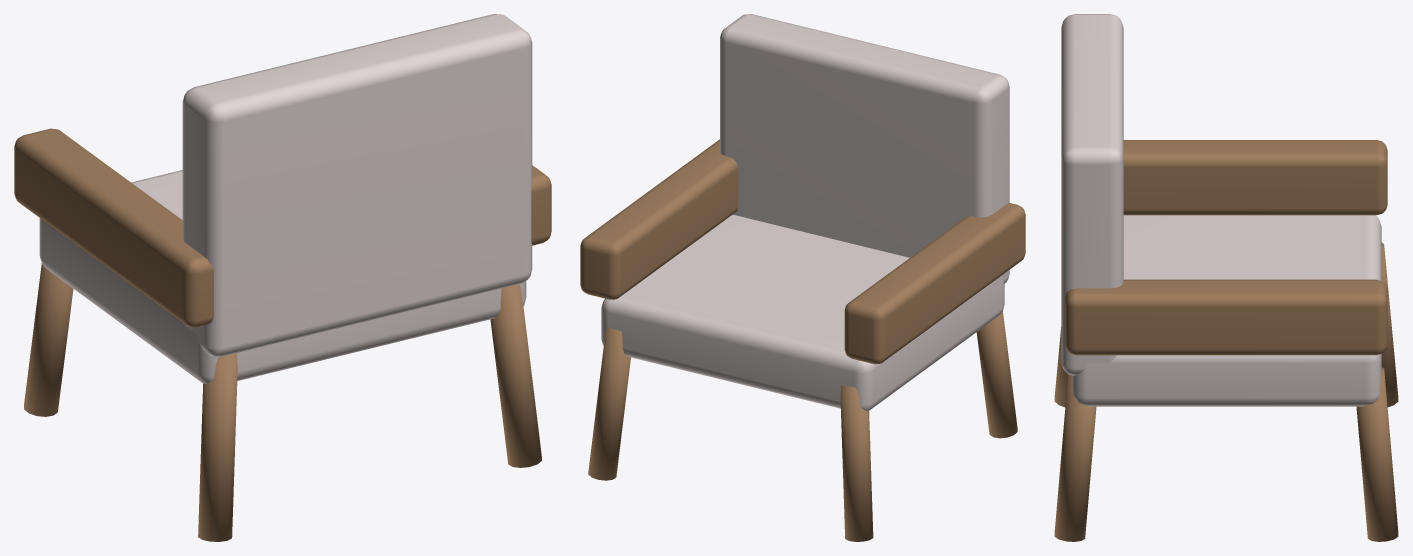
Rendered from poltrona-pausa.glb.
The picture shows the model from 3 angles, left to right: view 1: azimuth 30°, elevation 25°; view 2: azimuth 150°, elevation 25°; view 3: azimuth 270°, elevation 25°; orthographic projection. The views are drawn at different scales.
Visible parts, largest first — view 1: Encosto envolvente, Apoio de braço, Assento estofado, Pé de madeira, Pé de madeira.002, Pé de madeira.001, Apoio de braço.001; view 2: Encosto envolvente, Assento estofado, Apoio de braço, Apoio de braço.001, Pé de madeira.001, Pé de madeira.003, Pé de madeira; view 3: Assento estofado, Apoio de braço.001, Apoio de braço, Encosto envolvente, Pé de madeira.003, Pé de madeira.002, Pé de madeira.001, Pé de madeira.
Boxes of the visible parts, x1,y1,x2,y2 form: Encosto envolvente: (182,14,532,356); Apoio de braço: (14,128,213,327); Assento estofado: (39,170,526,383); Pé de madeira: (198,353,237,541); Pé de madeira.002: (490,284,541,467); Pé de madeira.001: (24,263,73,416); Apoio de braço.001: (531,165,551,245); Encosto envolvente: (720,14,1009,283); Assento estofado: (601,214,1004,410); Apoio de braço: (844,203,1025,364); Apoio de braço.001: (580,139,738,299); Pé de madeira.001: (840,385,873,541); Pé de madeira.003: (588,327,630,480); Pé de madeira: (976,311,1017,438); Assento estofado: (1072,215,1381,406); Apoio de braço.001: (1065,279,1387,355); Apoio de braço: (1123,140,1387,215); Encosto envolvente: (1061,14,1123,375); Pé de madeira.003: (1356,367,1398,541); Pé de madeira.002: (1054,374,1096,541); Pé de madeira.001: (1381,242,1398,407); Pé de madeira: (1054,327,1068,407).
Size of the model in its own units: 0.6732 by 0.7582 by 0.6077.
